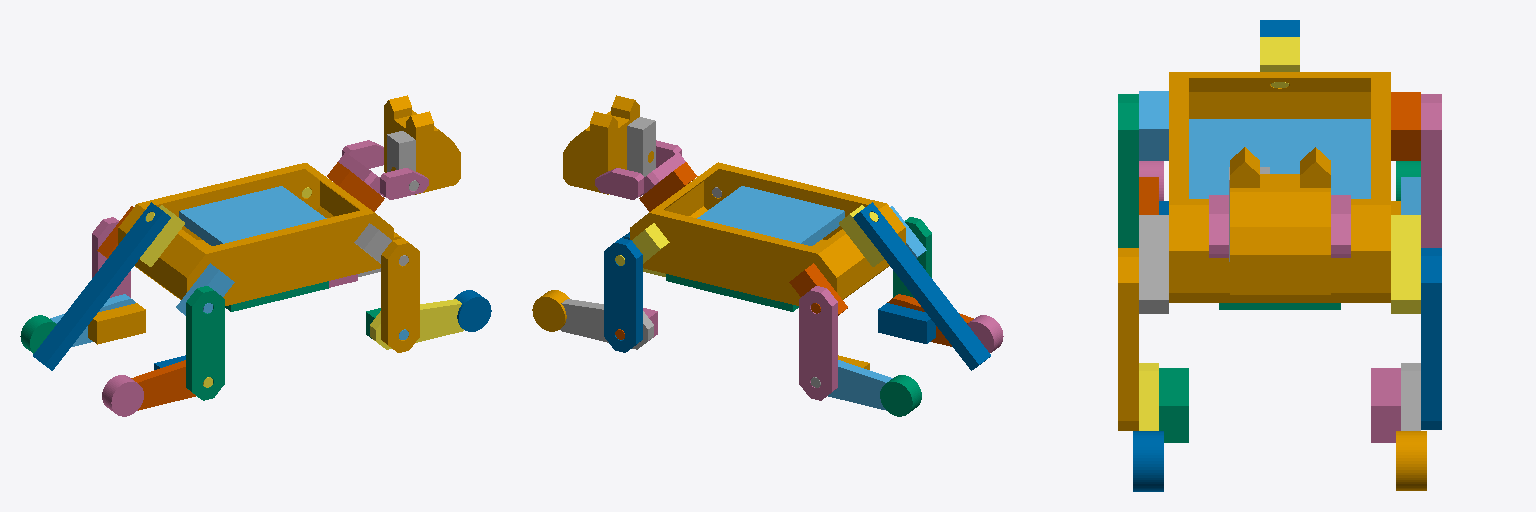
--- Facts derived from the render (not from the file) ---
3 views of the same robot in one strip: view 1: azimuth 30°, elevation 25°; view 2: azimuth 150°, elevation 25°; view 3: azimuth 270°, elevation 25° (orthographic).
Robot: CatModel — 33 links, 32 joints (11 continuous, 21 fixed); root link base_link; default pose: all joints at 0.
Links seen in each view (by area): view 1: base_link, Electronics1, Tail1, Upper_Right_Rear_Leg1, Upper_Right_Front_Leg1, Head1, Neck1, Lower_Right_Rear_Leg1, Lower_Right_Front_Leg1, Lower_Left_Rear_Servo1, Right_Rear_Paw1, Right_Front_Paw1 (+9 smaller); view 2: base_link, Electronics1, Tail1, Head1, Upper_Left_Front_Leg1, Upper_Left_Rear_Leg1, Neck1, Lower_Left_Rear_Leg1, Lower_Left_Front_Leg1, Lower_Right_Rear_Servo1, Head_Servo1, Left_Rear_Paw1 (+9 smaller); view 3: base_link, Head1, Electronics1, Upper_Right_Front_Leg1, Upper_Left_Front_Leg1, Upper_Right_Rear_Leg1, Upper_Left_Rear_Leg1, Upper_Right_Front_Servo1, Upper_Left_Front_Servo1, Neck1, Lower_Right_Front_Servo1, Lower_Left_Front_Servo1 (+11 smaller).
Boxes of the visible links, x1,y1,x2,y2 form: base_link: (118,163,393,305); Electronics1: (179,186,326,245); Tail1: (33,202,170,370); Upper_Right_Rear_Leg1: (186,286,224,400); Upper_Right_Front_Leg1: (381,238,419,352); Head1: (384,95,460,194); Neck1: (338,140,428,199); Lower_Right_Rear_Leg1: (131,360,195,410); Lower_Right_Front_Leg1: (370,299,463,349); Lower_Left_Rear_Servo1: (88,303,145,344); Right_Rear_Paw1: (102,375,143,416); Right_Front_Paw1: (454,290,491,331); base_link: (630,162,905,305); Electronics1: (697,186,844,245); Tail1: (853,202,990,370); Head1: (563,95,653,194); Upper_Left_Front_Leg1: (604,238,642,352); Upper_Left_Rear_Leg1: (799,286,837,400); Neck1: (595,140,685,199); Lower_Left_Rear_Leg1: (828,360,892,410); Lower_Left_Front_Leg1: (560,299,653,349); Lower_Right_Rear_Servo1: (878,303,935,343); Head_Servo1: (627,117,655,176); Left_Rear_Paw1: (880,375,921,416); base_link: (1169,72,1390,302); Head1: (1230,147,1330,299); Electronics1: (1189,119,1370,198); Upper_Right_Front_Leg1: (1118,248,1138,430); Upper_Left_Front_Leg1: (1421,248,1441,429); Upper_Right_Rear_Leg1: (1118,94,1138,247); Upper_Left_Rear_Leg1: (1421,94,1441,247); Upper_Right_Front_Servo1: (1139,215,1168,313); Upper_Left_Front_Servo1: (1391,215,1420,313); Neck1: (1209,195,1350,257); Lower_Right_Front_Servo1: (1159,368,1188,442); Lower_Left_Front_Servo1: (1371,368,1400,442).
Size in the robot's own frame: 0.3751 by 0.16 by 0.1739 metres.
33 mesh visuals loaded from 33 distinct referenced files (33 binary STL).

The robot description file, URDF, robot "CatModel":
<?xml version="1.0" ?>
<robot name="CatModel">

<material name="white">
  <color rgba="0.900 0.900 0.900 1.000"/>
</material>
<material name="ginger">
  <color rgba="0.750 0.500 0.250 1.000"/>
</material>
<material name="green">
  <color rgba="0.1 0.4 0.15 1.000"/>
</material>
<material name="black">
  <color rgba="0.3 0.3 0.3 1.000"/>
</material>
<material name="wood">
  <color rgba="0.6921 0.4431 0.2471 1.000"/>
</material>


<link name="base_link">
  <inertial>
    <origin rpy="0 0 0" xyz="4.828448836566253e-06 -4.612760516553384e-05 0.08481287235367217"/>
    <mass value="0.23060219033668225"/>
    <inertia ixx="0.00039234043563495403" ixy="3.512742743516971e-10" ixz="6.388681870906491e-08" iyy="0.0008625315560529527" iyz="1.8805183007303448e-07" izz="0.0011563335808692746"/>
  </inertial>
  <visual>
    <origin rpy="0 0 0" xyz="0 0 0"/>
    <geometry>
      <mesh filename="meshes/base_link.stl" scale="0.001 0.001 0.001"/>
    </geometry>
    <material name="wood"/>
    <material/>
  </visual>
  <collision>
    <origin rpy="0 0 0" xyz="0 0 0"/>
    <geometry>
      <mesh filename="meshes/base_link.stl" scale="0.001 0.001 0.001"/>
    </geometry>
  </collision>
</link>

<link name="Upper_Right_Rear_Servo1">
  <inertial>
    <origin rpy="0 0 0" xyz="-0.008705058252338416 -0.012500000000000011 -0.0085208055109922"/>
    <mass value="0.08892951704871728"/>
    <inertia ixx="1.135906857503764e-05" ixy="-7.563772916319416e-07" ixz="-5.877350762054003e-06" iyy="1.7308522848490148e-05" iyz="-5.648893697169136e-07" izz="1.1518336968654986e-05"/>
  </inertial>
  <visual>
    <origin rpy="0 0 0" xyz="0.074132 0.05 -0.094571"/>
    <geometry>
      <mesh filename="meshes/Upper_Right_Rear_Servo1.stl" scale="0.001 0.001 0.001"/>
    </geometry>
    <material name="black"/>
    <material/>
  </visual>
  <collision>
    <origin rpy="0 0 0" xyz="0.074132 0.05 -0.094571"/>
    <geometry>
      <mesh filename="meshes/Upper_Right_Rear_Servo1.stl" scale="0.001 0.001 0.001"/>
    </geometry>
  </collision>
</link>

<link name="Upper_Right_Rear_Leg1">
  <inertial>
    <origin rpy="0 0 0" xyz="-1.2657987762065837e-05 0.0 -0.032742712255466"/>
    <mass value="0.014216059949049762"/>
    <inertia ixx="9.14897082191506e-06" ixy="1.3552527156068805e-20" ixz="4.363359273776377e-11" iyy="1.0082257104575791e-05" iyz="-6.776263578034403e-21" izz="1.1702206151449038e-06"/>
  </inertial>
  <visual>
    <origin rpy="0 0 0" xyz="0.089932 0.075 -0.082771"/>
    <geometry>
      <mesh filename="meshes/Upper_Right_Rear_Leg1.stl" scale="0.001 0.001 0.001"/>
    </geometry>
    <material name="wood"/>
    <material/>
  </visual>
  <collision>
    <origin rpy="0 0 0" xyz="0.089932 0.075 -0.082771"/>
    <geometry>
      <mesh filename="meshes/Upper_Right_Rear_Leg1.stl" scale="0.001 0.001 0.001"/>
    </geometry>
  </collision>
</link>

<link name="Right_Rear_Joint1">
  <inertial>
    <origin rpy="0 0 0" xyz="1.0268760365639285e-07 -5.551115123125783e-17 -2.534658303382509e-07"/>
    <mass value="0.0049939542219628675"/>
    <inertia ixx="6.689817351290575e-08" ixy="6.776263578034403e-21" ixz="-6.776263578034403e-21" iyy="5.0563783211123395e-08" iyz="-4.235164736271502e-21" izz="6.689818006422787e-08"/>
  </inertial>
  <visual>
    <origin rpy="0 0 0" xyz="0.089935 0.075 -0.017438"/>
    <geometry>
      <mesh filename="meshes/Right_Rear_Joint1.stl" scale="0.001 0.001 0.001"/>
    </geometry>
    <material name="black"/>
    <material/>
  </visual>
  <collision>
    <origin rpy="0 0 0" xyz="0.089935 0.075 -0.017438"/>
    <geometry>
      <mesh filename="meshes/Right_Rear_Joint1.stl" scale="0.001 0.001 0.001"/>
    </geometry>
  </collision>
</link>

<link name="Lower_Right_Rear_Servo1">
  <inertial>
    <origin rpy="0 0 0" xyz="-0.007162372290249686 0.016937460430151777 -2.5371486519001896e-07"/>
    <mass value="0.08509975852435848"/>
    <inertia ixx="4.855585193670763e-06" ixy="3.4288186995658047e-07" ixz="-7.153050938027428e-15" iyy="1.6667817887716478e-05" iyz="1.1921792220960514e-14" izz="1.606662677382394e-05"/>
  </inertial>
  <visual>
    <origin rpy="0 0 0" xyz="0.089935 0.07 -0.017438"/>
    <geometry>
      <mesh filename="meshes/Lower_Right_Rear_Servo1.stl" scale="0.001 0.001 0.001"/>
    </geometry>
    <material name="black"/>
    <material/>
  </visual>
  <collision>
    <origin rpy="0 0 0" xyz="0.089935 0.07 -0.017438"/>
    <geometry>
      <mesh filename="meshes/Lower_Right_Rear_Servo1.stl" scale="0.001 0.001 0.001"/>
    </geometry>
  </collision>
</link>

<link name="Lower_Right_Rear_Leg1">
  <inertial>
    <origin rpy="0 0 0" xyz="-0.023689841493032673 1.3877787807814457e-17 -0.0010777696278954432"/>
    <mass value="0.012527915218877675"/>
    <inertia ixx="8.92584988676055e-07" ixy="-4.0657581468206416e-20" ixz="-2.885026995442547e-07" iyy="7.94106993199357e-06" iyz="-1.6940658945086007e-21" izz="7.257283530298864e-06"/>
  </inertial>
  <visual>
    <origin rpy="0 0 0" xyz="0.089935 0.065 -0.017438"/>
    <geometry>
      <mesh filename="meshes/Lower_Right_Rear_Leg1.stl" scale="0.001 0.001 0.001"/>
    </geometry>
    <material name="wood"/>
    <material/>
  </visual>
  <collision>
    <origin rpy="0 0 0" xyz="0.089935 0.065 -0.017438"/>
    <geometry>
      <mesh filename="meshes/Lower_Right_Rear_Leg1.stl" scale="0.001 0.001 0.001"/>
    </geometry>
  </collision>
</link>

<link name="Right_Rear_Paw1">
  <inertial>
    <origin rpy="0 0 0" xyz="7.511135047266748e-09 0.0 4.805733764823295e-07"/>
    <mass value="0.009860673647584237"/>
    <inertia ixx="7.395505070385559e-07" ixy="2.710505431213761e-20" ixz="3.3881317890172014e-21" iyy="1.1093257522928218e-06" iyz="-1.6940658945086007e-21" izz="7.39550507038644e-07"/>
  </inertial>
  <visual>
    <origin rpy="0 0 0" xyz="0.159944 0.065 -0.01611"/>
    <geometry>
      <mesh filename="meshes/Right_Rear_Paw1.stl" scale="0.001 0.001 0.001"/>
    </geometry>
    <material name="white"/>
    <material/>
  </visual>
  <collision>
    <origin rpy="0 0 0" xyz="0.159944 0.065 -0.01611"/>
    <geometry>
      <mesh filename="meshes/Right_Rear_Paw1.stl" scale="0.001 0.001 0.001"/>
    </geometry>
  </collision>
</link>

<link name="Upper_Right_Front_Servo1">
  <inertial>
    <origin rpy="0 0 0" xyz="0.008764782542449959 -0.012499999999999997 -0.00865448803477041"/>
    <mass value="0.08892951704871722"/>
    <inertia ixx="1.1398601763720805e-05" ixy="8.194267562608025e-07" ixz="5.933694709349792e-06" iyy="1.7425996599347918e-05" iyz="-6.241495982671095e-07" izz="1.1596277530830025e-05"/>
  </inertial>
  <visual>
    <origin rpy="0 0 0" xyz="-0.072881 0.05 -0.095719"/>
    <geometry>
      <mesh filename="meshes/Upper_Right_Front_Servo1.stl" scale="0.001 0.001 0.001"/>
    </geometry>
    <material name="black"/>
    <material/>
  </visual>
  <collision>
    <origin rpy="0 0 0" xyz="-0.072881 0.05 -0.095719"/>
    <geometry>
      <mesh filename="meshes/Upper_Right_Front_Servo1.stl" scale="0.001 0.001 0.001"/>
    </geometry>
  </collision>
</link>

<link name="Upper_Right_Front_Leg1">
  <inertial>
    <origin rpy="0 0 0" xyz="-8.530472696814673e-05 0.0 -0.03273740647087604"/>
    <mass value="0.014216059949049762"/>
    <inertia ixx="9.14492261793487e-06" ixy="1.3552527156068805e-20" ixz="8.963002220437446e-10" iyy="1.0078205657321909e-05" iyz="6.776263578034403e-21" izz="1.1702173718711986e-06"/>
  </inertial>
  <visual>
    <origin rpy="0 0 0" xyz="-0.089998 0.075 -0.082681"/>
    <geometry>
      <mesh filename="meshes/Upper_Right_Front_Leg1.stl" scale="0.001 0.001 0.001"/>
    </geometry>
    <material name="wood"/>
    <material/>
  </visual>
  <collision>
    <origin rpy="0 0 0" xyz="-0.089998 0.075 -0.082681"/>
    <geometry>
      <mesh filename="meshes/Upper_Right_Front_Leg1.stl" scale="0.001 0.001 0.001"/>
    </geometry>
  </collision>
</link>

<link name="Right_Front_Joint1">
  <inertial>
    <origin rpy="0 0 0" xyz="-2.402333844908622e-07 -5.551115123125783e-17 -4.584168129713462e-07"/>
    <mass value="0.0049939542219628675"/>
    <inertia ixx="6.689817351291253e-08" ixy="-2.0328790734103208e-20" ixz="3.3881317890172014e-21" iyy="5.0563783211123395e-08" iyz="-4.235164736271502e-21" izz="6.689818006421432e-08"/>
  </inertial>
  <visual>
    <origin rpy="0 0 0" xyz="-0.089937 0.075 -0.01721"/>
    <geometry>
      <mesh filename="meshes/Right_Front_Joint1.stl" scale="0.001 0.001 0.001"/>
    </geometry>
    <material name="black"/>
    <material/>
  </visual>
  <collision>
    <origin rpy="0 0 0" xyz="-0.089937 0.075 -0.01721"/>
    <geometry>
      <mesh filename="meshes/Right_Front_Joint1.stl" scale="0.001 0.001 0.001"/>
    </geometry>
  </collision>
</link>

<link name="Lower_Right_Front_Servo1">
  <inertial>
    <origin rpy="0 0 0" xyz="0.007162237945319436 0.01693746043015179 9.504163804588059e-05"/>
    <mass value="0.0850997585243585"/>
    <inertia ixx="4.855621768028076e-06" ixy="-3.4288202332266983e-07" ixz="-2.7430668549045713e-09" iyy="1.6667854646112935e-05" iyz="-4.571776864647028e-09" izz="1.6066626957863574e-05"/>
  </inertial>
  <visual>
    <origin rpy="0 0 0" xyz="-0.089937 0.07 -0.01721"/>
    <geometry>
      <mesh filename="meshes/Lower_Right_Front_Servo1.stl" scale="0.001 0.001 0.001"/>
    </geometry>
    <material name="black"/>
    <material/>
  </visual>
  <collision>
    <origin rpy="0 0 0" xyz="-0.089937 0.07 -0.01721"/>
    <geometry>
      <mesh filename="meshes/Lower_Right_Front_Servo1.stl" scale="0.001 0.001 0.001"/>
    </geometry>
  </collision>
</link>

<link name="Lower_Right_Front_Leg1">
  <inertial>
    <origin rpy="0 0 0" xyz="0.02365871265081529 0.0 -0.0009338965652742164"/>
    <mass value="0.012527915218877713"/>
    <inertia ixx="8.927102762511694e-07" ixy="1.3552527156068805e-20" ixz="2.8999114412186076e-07" iyy="7.941829753251186e-06" iyz="0.0" izz="7.257918063981379e-06"/>
  </inertial>
  <visual>
    <origin rpy="0 0 0" xyz="-0.089937 0.065 -0.01721"/>
    <geometry>
      <mesh filename="meshes/Lower_Right_Front_Leg1.stl" scale="0.001 0.001 0.001"/>
    </geometry>
    <material name="wood"/>
    <material/>
  </visual>
  <collision>
    <origin rpy="0 0 0" xyz="-0.089937 0.065 -0.01721"/>
    <geometry>
      <mesh filename="meshes/Lower_Right_Front_Leg1.stl" scale="0.001 0.001 0.001"/>
    </geometry>
  </collision>
</link>

<link name="Right_Front_Paw1">
  <inertial>
    <origin rpy="0 0 0" xyz="-6.66422521056198e-08 0.0 3.8056695783258987e-07"/>
    <mass value="0.009860673647584237"/>
    <inertia ixx="7.39550507038583e-07" ixy="5.421010862427522e-20" ixz="-1.0164395367051604e-20" iyy="1.1093257522928218e-06" iyz="3.3881317890172014e-21" izz="7.39550507038644e-07"/>
  </inertial>
  <visual>
    <origin rpy="0 0 0" xyz="-0.159916 0.065 -0.016021"/>
    <geometry>
      <mesh filename="meshes/Right_Front_Paw1.stl" scale="0.001 0.001 0.001"/>
    </geometry>
    <material name="white"/>
    <material/>
  </visual>
  <collision>
    <origin rpy="0 0 0" xyz="-0.159916 0.065 -0.016021"/>
    <geometry>
      <mesh filename="meshes/Right_Front_Paw1.stl" scale="0.001 0.001 0.001"/>
    </geometry>
  </collision>
</link>

<link name="Neck_Servo1">
  <inertial>
    <origin rpy="0 0 0" xyz="0.012088780175495181 1.9515253796303132e-07 0.0025195800527267748"/>
    <mass value="0.08701463778653835"/>
    <inertia ixx="1.0888447279340432e-05" ixy="-1.0428525193303775e-10" ixz="5.772983643664484e-06" iyy="1.6226212828070966e-05" iyz="-1.8797429805778473e-10" izz="1.0813930154036293e-05"/>
  </inertial>
  <visual>
    <origin rpy="0 0 0" xyz="-0.079697 -0.0 -0.112197"/>
    <geometry>
      <mesh filename="meshes/Neck_Servo1.stl" scale="0.001 0.001 0.001"/>
    </geometry>
    <material name="black"/>
    <material/>
  </visual>
  <collision>
    <origin rpy="0 0 0" xyz="-0.079697 -0.0 -0.112197"/>
    <geometry>
      <mesh filename="meshes/Neck_Servo1.stl" scale="0.001 0.001 0.001"/>
    </geometry>
  </collision>
</link>

<link name="Neck1">
  <inertial>
    <origin rpy="0 0 0" xyz="0.01123427725955535 0.0009221597976449781 -0.0020048734460798023"/>
    <mass value="0.19671474883465964"/>
    <inertia ixx="0.00011974818810461373" ixy="-2.9831136313045425e-06" ixz="2.761469197435241e-06" iyy="3.5474452138836536e-05" iyz="3.4391210002771794e-07" izz="0.00014274235119378842"/>
  </inertial>
  <visual>
    <origin rpy="0 0 0" xyz="-0.097927 -4e-06 -0.125786"/>
    <geometry>
      <mesh filename="meshes/Neck1.stl" scale="0.001 0.001 0.001"/>
    </geometry>
    <material name="wood"/>
    <material/>
  </visual>
  <collision>
    <origin rpy="0 0 0" xyz="-0.097927 -4e-06 -0.125786"/>
    <geometry>
      <mesh filename="meshes/Neck1.stl" scale="0.001 0.001 0.001"/>
    </geometry>
  </collision>
</link>

<link name="Head_Servo1">
  <inertial>
    <origin rpy="0 0 0" xyz="-0.00020573526206899007 0.0144488827820353 0.012506366679220726"/>
    <mass value="0.07800761310887962"/>
    <inertia ixx="1.7514893352275126e-05" ixy="1.1964101534863358e-08" ixz="1.0356017418828092e-08" iyy="1.5420048085610077e-05" iyz="-6.28035148224007e-07" izz="4.915631620179637e-06"/>
  </inertial>
  <visual>
    <origin rpy="0 0 0" xyz="-0.125283 0.030014 -0.121923"/>
    <geometry>
      <mesh filename="meshes/Head_Servo1.stl" scale="0.001 0.001 0.001"/>
    </geometry>
    <material name="black"/>
    <material/>
  </visual>
  <collision>
    <origin rpy="0 0 0" xyz="-0.125283 0.030014 -0.121923"/>
    <geometry>
      <mesh filename="meshes/Head_Servo1.stl" scale="0.001 0.001 0.001"/>
    </geometry>
  </collision>
</link>

<link name="Head1">
  <inertial>
    <origin rpy="0 0 0" xyz="0.025829653601937175 0.016968693548665863 0.006114881070728717"/>
    <mass value="0.8146696853490065"/>
    <inertia ixx="0.00037625933598252857" ixy="-4.1032021073195805e-06" ixz="3.5163968085536595e-05" iyy="0.0003134078855276251" iyz="-9.583909859524562e-07" izz="0.00028820425441944755"/>
  </inertial>
  <visual>
    <origin rpy="0 0 0" xyz="-0.125067 0.017047 -0.128159"/>
    <geometry>
      <mesh filename="meshes/Head1.stl" scale="0.001 0.001 0.001"/>
    </geometry>
    <material name="wood"/>
    <material/>
  </visual>
  <collision>
    <origin rpy="0 0 0" xyz="-0.125067 0.017047 -0.128159"/>
    <geometry>
      <mesh filename="meshes/Head1.stl" scale="0.001 0.001 0.001"/>
    </geometry>
  </collision>
</link>

<link name="Electronics1">
  <inertial>
    <origin rpy="0 0 0" xyz="0.002491103479004657 -0.047323940408980275 -9.006928508581424e-08"/>
    <mass value="0.1587634595739255"/>
    <inertia ixx="0.00010941324576018395" ixy="6.962056449767063e-08" ixz="2.238714855856694e-15" iyy="0.00012028852864303611" iyz="-4.253452897580727e-14" izz="0.0002270595662496503"/>
  </inertial>
  <visual>
    <origin rpy="0 0 0" xyz="7.2e-05 -0.0475 -0.102498"/>
    <geometry>
      <mesh filename="meshes/Electronics1.stl" scale="0.001 0.001 0.001"/>
    </geometry>
    <material name="green"/>
    <material/>
  </visual>
  <collision>
    <origin rpy="0 0 0" xyz="7.2e-05 -0.0475 -0.102498"/>
    <geometry>
      <mesh filename="meshes/Electronics1.stl" scale="0.001 0.001 0.001"/>
    </geometry>
  </collision>
</link>

<link name="Battery1">
  <inertial>
    <origin rpy="0 0 0" xyz="0.004970720042067048 0.0 -0.014912160126184536"/>
    <mass value="0.6539897585243583"/>
    <inertia ixx="0.00021762795239984407" ixy="-1.3687895261682568e-19" ixz="2.855498617997977e-07" iyy="0.00046153313567702265" iyz="3.421973815420642e-20" izz="0.0006340399595973334"/>
  </inertial>
  <visual>
    <origin rpy="0 0 0" xyz="-0.0 -0.0 -0.0725"/>
    <geometry>
      <mesh filename="meshes/Battery1.stl" scale="0.001 0.001 0.001"/>
    </geometry>
    <material name="ginger"/>
    <material/>
  </visual>
  <collision>
    <origin rpy="0 0 0" xyz="-0.0 -0.0 -0.0725"/>
    <geometry>
      <mesh filename="meshes/Battery1.stl" scale="0.001 0.001 0.001"/>
    </geometry>
  </collision>
</link>

<link name="Tail_Servo1">
  <inertial>
    <origin rpy="0 0 0" xyz="-0.011922412265587129 -4.994581944007777e-07 0.0026566674441921845"/>
    <mass value="0.08689583836578228"/>
    <inertia ixx="1.120967849619443e-05" ixy="-1.1321282747178476e-10" ixz="-5.899813467811739e-06" iyy="1.6421647025098834e-05" iyz="6.291786786704317e-10" izz="1.0686648969213531e-05"/>
  </inertial>
  <visual>
    <origin rpy="0 0 0" xyz="0.079697 -0.0 -0.112197"/>
    <geometry>
      <mesh filename="meshes/Tail_Servo1.stl" scale="0.001 0.001 0.001"/>
    </geometry>
    <material name="black"/>
    <material/>
  </visual>
  <collision>
    <origin rpy="0 0 0" xyz="0.079697 -0.0 -0.112197"/>
    <geometry>
      <mesh filename="meshes/Tail_Servo1.stl" scale="0.001 0.001 0.001"/>
    </geometry>
  </collision>
</link>

<link name="Tail1">
  <inertial>
    <origin rpy="0 0 0" xyz="-0.04895558163064957 1.2304007942038428e-05 -0.0489557172543776"/>
    <mass value="0.01723009674422482"/>
    <inertia ixx="1.7307019228040223e-05" ixy="-2.564355892630473e-10" ixz="-1.6576968536536994e-05" iyy="3.344110535214416e-05" iyz="-2.564355892619882e-10" izz="1.730701922804021e-05"/>
  </inertial>
  <visual>
    <origin rpy="0 0 0" xyz="0.094118 1.2e-05 -0.12924"/>
    <geometry>
      <mesh filename="meshes/Tail1.stl" scale="0.001 0.001 0.001"/>
    </geometry>
    <material name="wood"/>
    <material/>
  </visual>
  <collision>
    <origin rpy="0 0 0" xyz="0.094118 1.2e-05 -0.12924"/>
    <geometry>
      <mesh filename="meshes/Tail1.stl" scale="0.001 0.001 0.001"/>
    </geometry>
  </collision>
</link>

<link name="Upper_Left_Rear_Servo1">
  <inertial>
    <origin rpy="0 0 0" xyz="-0.008709364762219271 0.012499999999999997 -0.008616498998876135"/>
    <mass value="0.08892951704871722"/>
    <inertia ixx="1.1365631716438868e-05" ixy="7.611644897254988e-07" ixz="-5.8819421199607196e-06" iyy="1.7320556993317493e-05" iyz="5.696765677650427e-07" izz="1.1523807972080888e-05"/>
  </inertial>
  <visual>
    <origin rpy="0 0 0" xyz="0.074132 -0.05 -0.094571"/>
    <geometry>
      <mesh filename="meshes/Upper_Left_Rear_Servo1.stl" scale="0.001 0.001 0.001"/>
    </geometry>
    <material name="black"/>
    <material/>
  </visual>
  <collision>
    <origin rpy="0 0 0" xyz="0.074132 -0.05 -0.094571"/>
    <geometry>
      <mesh filename="meshes/Upper_Left_Rear_Servo1.stl" scale="0.001 0.001 0.001"/>
    </geometry>
  </collision>
</link>

<link name="Upper_Left_Rear_Leg1">
  <inertial>
    <origin rpy="0 0 0" xyz="6.0257715295247705e-05 0.0 -0.03272038914643548"/>
    <mass value="0.014216059949049762"/>
    <inertia ixx="9.147187959461728e-06" ixy="0.0" ixz="-8.420847599950598e-10" iyy="1.0080472775197583e-05" iyz="2.0328790734103208e-20" izz="1.1702191482200692e-06"/>
  </inertial>
  <visual>
    <origin rpy="0 0 0" xyz="0.090032 -0.075 -0.082671"/>
    <geometry>
      <mesh filename="meshes/Upper_Left_Rear_Leg1.stl" scale="0.001 0.001 0.001"/>
    </geometry>
    <material name="wood"/>
    <material/>
  </visual>
  <collision>
    <origin rpy="0 0 0" xyz="0.090032 -0.075 -0.082671"/>
    <geometry>
      <mesh filename="meshes/Upper_Left_Rear_Leg1.stl" scale="0.001 0.001 0.001"/>
    </geometry>
  </collision>
</link>

<link name="Left_Rear_Joint1">
  <inertial>
    <origin rpy="0 0 0" xyz="4.96095167820676e-07 1.3877787807814457e-17 -3.0490204138561294e-07"/>
    <mass value="0.0049939542219629126"/>
    <inertia ixx="6.689817355522013e-08" ixy="0.0" ixz="-5.082197683525802e-21" iyy="5.0563783253414056e-08" iyz="3.3881317890172014e-21" izz="6.689818006425498e-08"/>
  </inertial>
  <visual>
    <origin rpy="0 0 0" xyz="0.089975 -0.075 -0.017277"/>
    <geometry>
      <mesh filename="meshes/Left_Rear_Joint1.stl" scale="0.001 0.001 0.001"/>
    </geometry>
    <material name="black"/>
    <material/>
  </visual>
  <collision>
    <origin rpy="0 0 0" xyz="0.089975 -0.075 -0.017277"/>
    <geometry>
      <mesh filename="meshes/Left_Rear_Joint1.stl" scale="0.001 0.001 0.001"/>
    </geometry>
  </collision>
</link>

<link name="Lower_Left_Rear_Servo1">
  <inertial>
    <origin rpy="0 0 0" xyz="-0.0071619820835361475 -0.01693746043015177 9.519515281747326e-05"/>
    <mass value="0.0850997585243585"/>
    <inertia ixx="4.855621768027859e-06" ixy="-3.4288202332283246e-07" ixz="2.7430668548774663e-09" iyy="1.666785464611261e-05" iyz="4.571776864647028e-09" izz="1.6066626957863357e-05"/>
  </inertial>
  <visual>
    <origin rpy="0 0 0" xyz="0.089975 -0.07 -0.017277"/>
    <geometry>
      <mesh filename="meshes/Lower_Left_Rear_Servo1.stl" scale="0.001 0.001 0.001"/>
    </geometry>
    <material name="black"/>
    <material/>
  </visual>
  <collision>
    <origin rpy="0 0 0" xyz="0.089975 -0.07 -0.017277"/>
    <geometry>
      <mesh filename="meshes/Lower_Left_Rear_Servo1.stl" scale="0.001 0.001 0.001"/>
    </geometry>
  </collision>
</link>

<link name="Lower_Left_Rear_Leg1">
  <inertial>
    <origin rpy="0 0 0" xyz="-0.023679100821470664 -1.3877787807814457e-17 -0.0009947104633864674"/>
    <mass value="0.012527915218877675"/>
    <inertia ixx="8.926594507867674e-07" ixy="1.3552527156068805e-20" ixz="-2.8935853395577966e-07" iyy="7.941356342554203e-06" iyz="-3.3881317890172014e-21" izz="7.257495478748784e-06"/>
  </inertial>
  <visual>
    <origin rpy="0 0 0" xyz="0.089975 -0.065 -0.017277"/>
    <geometry>
      <mesh filename="meshes/Lower_Left_Rear_Leg1.stl" scale="0.001 0.001 0.001"/>
    </geometry>
    <material name="wood"/>
    <material/>
  </visual>
  <collision>
    <origin rpy="0 0 0" xyz="0.089975 -0.065 -0.017277"/>
    <geometry>
      <mesh filename="meshes/Lower_Left_Rear_Leg1.stl" scale="0.001 0.001 0.001"/>
    </geometry>
  </collision>
</link>

<link name="Left_Rear_Paw1">
  <inertial>
    <origin rpy="0 0 0" xyz="3.9103137530749343e-07 0.0 -3.2894929649293636e-07"/>
    <mass value="0.009860673647584237"/>
    <inertia ixx="7.395505070385627e-07" ixy="-1.3552527156068805e-20" ixz="6.776263578034403e-21" iyy="1.1093257522927676e-06" iyz="0.0" izz="7.39550507038644e-07"/>
  </inertial>
  <visual>
    <origin rpy="0 0 0" xyz="0.159974 -0.065 -0.01603"/>
    <geometry>
      <mesh filename="meshes/Left_Rear_Paw1.stl" scale="0.001 0.001 0.001"/>
    </geometry>
    <material name="white"/>
    <material/>
  </visual>
  <collision>
    <origin rpy="0 0 0" xyz="0.159974 -0.065 -0.01603"/>
    <geometry>
      <mesh filename="meshes/Left_Rear_Paw1.stl" scale="0.001 0.001 0.001"/>
    </geometry>
  </collision>
</link>

<link name="Upper_Left_Front_Servo1">
  <inertial>
    <origin rpy="0 0 0" xyz="0.008785081078021909 0.012500000000000011 -0.008557021808984433"/>
    <mass value="0.08892951704871721"/>
    <inertia ixx="1.1393842768754473e-05" ixy="-8.158511247008133e-07" ixz="5.931342781384367e-06" iyy="1.7416579238026383e-05" iyz="6.221706832519646e-07" izz="1.1591619164474606e-05"/>
  </inertial>
  <visual>
    <origin rpy="0 0 0" xyz="-0.072933 -0.05 -0.095716"/>
    <geometry>
      <mesh filename="meshes/Upper_Left_Front_Servo1.stl" scale="0.001 0.001 0.001"/>
    </geometry>
    <material name="black"/>
    <material/>
  </visual>
  <collision>
    <origin rpy="0 0 0" xyz="-0.072933 -0.05 -0.095716"/>
    <geometry>
      <mesh filename="meshes/Upper_Left_Front_Servo1.stl" scale="0.001 0.001 0.001"/>
    </geometry>
  </collision>
</link>

<link name="Upper_Left_Front_Leg1">
  <inertial>
    <origin rpy="0 0 0" xyz="-1.539053799046175e-05 0.0 -0.032681677799056105"/>
    <mass value="0.014216059949049762"/>
    <inertia ixx="9.149053204176704e-06" ixy="-1.3552527156068805e-20" ixz="4.2685382626531793e-10" iyy="1.0082339403517379e-05" iyz="-6.776263578034403e-21" izz="1.1702205318248613e-06"/>
  </inertial>
  <visual>
    <origin rpy="0 0 0" xyz="-0.089975 -0.075 -0.08272"/>
    <geometry>
      <mesh filename="meshes/Upper_Left_Front_Leg1.stl" scale="0.001 0.001 0.001"/>
    </geometry>
    <material name="wood"/>
    <material/>
  </visual>
  <collision>
    <origin rpy="0 0 0" xyz="-0.089975 -0.075 -0.08272"/>
    <geometry>
      <mesh filename="meshes/Upper_Left_Front_Leg1.stl" scale="0.001 0.001 0.001"/>
    </geometry>
  </collision>
</link>

<link name="Left_Front_Joint1">
  <inertial>
    <origin rpy="0 0 0" xyz="2.345907219869492e-08 1.3877787807814457e-17 -5.326294378119045e-08"/>
    <mass value="0.0049939542219629126"/>
    <inertia ixx="6.689817355521674e-08" ixy="0.0" ixz="3.3881317890172014e-21" iyy="5.056378325344116e-08" iyz="8.470329472543003e-22" izz="6.689818006425498e-08"/>
  </inertial>
  <visual>
    <origin rpy="0 0 0" xyz="-0.089946 -0.075 -0.017389"/>
    <geometry>
      <mesh filename="meshes/Left_Front_Joint1.stl" scale="0.001 0.001 0.001"/>
    </geometry>
    <material name="black"/>
    <material/>
  </visual>
  <collision>
    <origin rpy="0 0 0" xyz="-0.089946 -0.075 -0.017389"/>
    <geometry>
      <mesh filename="meshes/Left_Front_Joint1.stl" scale="0.001 0.001 0.001"/>
    </geometry>
  </collision>
</link>

<link name="Lower_Left_Front_Servo1">
  <inertial>
    <origin rpy="0 0 0" xyz="0.007162501638801985 -0.016937460430151777 9.544679191508115e-05"/>
    <mass value="0.08509975852435851"/>
    <inertia ixx="4.855621768027913e-06" ixy="3.42882023236801e-07" ixz="-2.74306685419984e-09" iyy="1.6667854646009502e-05" iyz="4.571776864647028e-09" izz="1.606662695776014e-05"/>
  </inertial>
  <visual>
    <origin rpy="0 0 0" xyz="-0.089946 -0.07 -0.017389"/>
    <geometry>
      <mesh filename="meshes/Lower_Left_Front_Servo1.stl" scale="0.001 0.001 0.001"/>
    </geometry>
    <material name="black"/>
    <material/>
  </visual>
  <collision>
    <origin rpy="0 0 0" xyz="-0.089946 -0.07 -0.017389"/>
    <geometry>
      <mesh filename="meshes/Lower_Left_Front_Servo1.stl" scale="0.001 0.001 0.001"/>
    </geometry>
  </collision>
</link>

<link name="Lower_Left_Front_Leg1">
  <inertial>
    <origin rpy="0 0 0" xyz="0.023694680517413982 0.0 -0.0010203254505736503"/>
    <mass value="0.012527915218877713"/>
    <inertia ixx="8.926369168539721e-07" ixy="1.3552527156068805e-20" ixz="2.8908702763973346e-07" iyy="7.941025292395562e-06" iyz="-3.3881317890172014e-21" izz="7.257186962522926e-06"/>
  </inertial>
  <visual>
    <origin rpy="0 0 0" xyz="-0.089946 -0.065 -0.017389"/>
    <geometry>
      <mesh filename="meshes/Lower_Left_Front_Leg1.stl" scale="0.001 0.001 0.001"/>
    </geometry>
    <material name="wood"/>
    <material/>
  </visual>
  <collision>
    <origin rpy="0 0 0" xyz="-0.089946 -0.065 -0.017389"/>
    <geometry>
      <mesh filename="meshes/Lower_Left_Front_Leg1.stl" scale="0.001 0.001 0.001"/>
    </geometry>
  </collision>
</link>

<link name="Left_Front_Paw1">
  <inertial>
    <origin rpy="0 0 0" xyz="-3.311588045173952e-07 -1.3877787807814457e-17 -5.1111090505762125e-08"/>
    <mass value="0.009860673647584237"/>
    <inertia ixx="7.395505070385627e-07" ixy="0.0" ixz="-3.3881317890172014e-21" iyy="1.1093257522928218e-06" iyz="1.6940658945086007e-21" izz="7.395505070386982e-07"/>
  </inertial>
  <visual>
    <origin rpy="0 0 0" xyz="-0.15996 -0.065 -0.016117"/>
    <geometry>
      <mesh filename="meshes/Left_Front_Paw1.stl" scale="0.001 0.001 0.001"/>
    </geometry>
    <material name="white"/>
    <material/>
  </visual>
  <collision>
    <origin rpy="0 0 0" xyz="-0.15996 -0.065 -0.016117"/>
    <geometry>
      <mesh filename="meshes/Left_Front_Paw1.stl" scale="0.001 0.001 0.001"/>
    </geometry>
  </collision>
</link>

<joint name="R_Rear_Body_Hip_Servo" type="fixed">
  <origin rpy="0 0 0" xyz="-0.074132 -0.05 0.094571"/>
  <parent link="base_link"/>
  <child link="Upper_Right_Rear_Servo1"/>
</joint>

<joint name="R_Rear_Hip_Servo_Thigh" type="continuous">
  <origin rpy="0 0 0" xyz="-0.0158 -0.025 -0.0118"/>
  <parent link="Upper_Right_Rear_Servo1"/>
  <child link="Upper_Right_Rear_Leg1"/>
  <axis xyz="0.0 -1.0 0.0"/>
</joint>
<transmission name="R_Rear_Hip_Servo_Thigh_tran">
  <type>transmission_interface/SimpleTransmission</type>
  <joint name="R_Rear_Hip_Servo_Thigh">
    <hardwareInterface>PositionJointInterface</hardwareInterface>
  </joint>
  <actuator name="R_Rear_Hip_Servo_Thigh_actr">
    <hardwareInterface>PositionJointInterface</hardwareInterface>
    <mechanicalReduction>1</mechanicalReduction>
  </actuator>
</transmission>

<joint name="R_Rear_Thigh_Knee" type="fixed">
  <origin rpy="0 0 0" xyz="-3e-06 0.0 -0.065333"/>
  <parent link="Upper_Right_Rear_Leg1"/>
  <child link="Right_Rear_Joint1"/>
</joint>

<joint name="R_Rear_Knee_Servo" type="continuous">
  <origin rpy="0 0 0" xyz="0.0 0.005 0.0"/>
  <parent link="Right_Rear_Joint1"/>
  <child link="Lower_Right_Rear_Servo1"/>
  <axis xyz="0.0 -1.0 0.0"/>
</joint>
<transmission name="R_Rear_Knee_Servo_tran">
  <type>transmission_interface/SimpleTransmission</type>
  <joint name="R_Rear_Knee_Servo">
    <hardwareInterface>PositionJointInterface</hardwareInterface>
  </joint>
  <actuator name="R_Rear_Knee_Servo_actr">
    <hardwareInterface>PositionJointInterface</hardwareInterface>
    <mechanicalReduction>1</mechanicalReduction>
  </actuator>
</transmission>

<joint name="R_Rear_Knee_Calf" type="fixed">
  <origin rpy="0 0 0" xyz="0.0 0.005 0.0"/>
  <parent link="Lower_Right_Rear_Servo1"/>
  <child link="Lower_Right_Rear_Leg1"/>
</joint>

<joint name="R_Rear_Calf_Paw" type="fixed">
  <origin rpy="0 0 0" xyz="-0.070009 0.0 -0.001328"/>
  <parent link="Lower_Right_Rear_Leg1"/>
  <child link="Right_Rear_Paw1"/>
</joint>

<joint name="R_Front_Body_Hip_Servo" type="fixed">
  <origin rpy="0 0 0" xyz="0.072881 -0.05 0.095719"/>
  <parent link="base_link"/>
  <child link="Upper_Right_Front_Servo1"/>
</joint>

<joint name="R_Front_Hip_Servo_Thigh" type="continuous">
  <origin rpy="0 0 0" xyz="0.017117 -0.025 -0.013038"/>
  <parent link="Upper_Right_Front_Servo1"/>
  <child link="Upper_Right_Front_Leg1"/>
  <axis xyz="0.0 -1.0 0.0"/>
</joint>
<transmission name="R_Front_Hip_Servo_Thigh_tran">
  <type>transmission_interface/SimpleTransmission</type>
  <joint name="R_Front_Hip_Servo_Thigh">
    <hardwareInterface>PositionJointInterface</hardwareInterface>
  </joint>
  <actuator name="R_Front_Hip_Servo_Thigh_actr">
    <hardwareInterface>PositionJointInterface</hardwareInterface>
    <mechanicalReduction>1</mechanicalReduction>
  </actuator>
</transmission>

<joint name="R_Front_Thigh_Knee" type="fixed">
  <origin rpy="0 0 0" xyz="-6.1e-05 0.0 -0.065471"/>
  <parent link="Upper_Right_Front_Leg1"/>
  <child link="Right_Front_Joint1"/>
</joint>

<joint name="R_Front_Knee_Servo" type="continuous">
  <origin rpy="0 0 0" xyz="0.0 0.005 0.0"/>
  <parent link="Right_Front_Joint1"/>
  <child link="Lower_Right_Front_Servo1"/>
  <axis xyz="0.0 1.0 0.0"/>
</joint>
<transmission name="R_Front_Knee_Servo_tran">
  <type>transmission_interface/SimpleTransmission</type>
  <joint name="R_Front_Knee_Servo">
    <hardwareInterface>PositionJointInterface</hardwareInterface>
  </joint>
  <actuator name="R_Front_Knee_Servo_actr">
    <hardwareInterface>PositionJointInterface</hardwareInterface>
    <mechanicalReduction>1</mechanicalReduction>
  </actuator>
</transmission>

<joint name="R_Front_Knee_Calf" type="fixed">
  <origin rpy="0 0 0" xyz="0.0 0.005 0.0"/>
  <parent link="Lower_Right_Front_Servo1"/>
  <child link="Lower_Right_Front_Leg1"/>
</joint>

<joint name="R_Front_Calf_Paw" type="fixed">
  <origin rpy="0 0 0" xyz="0.069979 0.0 -0.001189"/>
  <parent link="Lower_Right_Front_Leg1"/>
  <child link="Right_Front_Paw1"/>
</joint>

<joint name="Body_Neck" type="fixed">
  <origin rpy="0 0 0" xyz="0.079697 0.0 0.112197"/>
  <parent link="base_link"/>
  <child link="Neck_Servo1"/>
</joint>

<joint name="Body_Neck_Servo" type="continuous">
  <origin rpy="0 0 0" xyz="0.01823 4e-06 0.013589"/>
  <parent link="Neck_Servo1"/>
  <child link="Neck1"/>
  <axis xyz="0.707107 0.0 0.707107"/>
</joint>
<transmission name="Body_Neck_Servo_tran">
  <type>transmission_interface/SimpleTransmission</type>
  <joint name="Body_Neck_Servo">
    <hardwareInterface>PositionJointInterface</hardwareInterface>
  </joint>
  <actuator name="Body_Neck_Servo_actr">
    <hardwareInterface>PositionJointInterface</hardwareInterface>
    <mechanicalReduction>1</mechanicalReduction>
  </actuator>
</transmission>

<joint name="Neck_Head_Servo" type="continuous">
  <origin rpy="0 0 0" xyz="0.027356 -0.030018 -0.003863"/>
  <parent link="Neck1"/>
  <child link="Head_Servo1"/>
  <axis xyz="0.0 1.0 -0.0"/>
</joint>
<transmission name="Neck_Head_Servo_tran">
  <type>transmission_interface/SimpleTransmission</type>
  <joint name="Neck_Head_Servo">
    <hardwareInterface>PositionJointInterface</hardwareInterface>
  </joint>
  <actuator name="Neck_Head_Servo_actr">
    <hardwareInterface>PositionJointInterface</hardwareInterface>
    <mechanicalReduction>1</mechanicalReduction>
  </actuator>
</transmission>

<joint name="Head_Servo_Head" type="fixed">
  <origin rpy="0 0 0" xyz="-0.000216 0.012967 0.006236"/>
  <parent link="Head_Servo1"/>
  <child link="Head1"/>
</joint>

<joint name="Body_PyBoard" type="fixed">
  <origin rpy="0 0 0" xyz="-7.2e-05 0.0475 0.102498"/>
  <parent link="base_link"/>
  <child link="Electronics1"/>
</joint>

<joint name="Body_Battery" type="fixed">
  <origin rpy="0 0 0" xyz="0.0 0.0 0.0725"/>
  <parent link="base_link"/>
  <child link="Battery1"/>
</joint>

<joint name="Body_Tail_Servo" type="fixed">
  <origin rpy="0 0 0" xyz="-0.079697 0.0 0.112197"/>
  <parent link="base_link"/>
  <child link="Tail_Servo1"/>
</joint>

<joint name="Tail_Servo_Tail" type="continuous">
  <origin rpy="0 0 0" xyz="-0.014421 -1.2e-05 0.017043"/>
  <parent link="Tail_Servo1"/>
  <child link="Tail1"/>
  <axis xyz="-0.707107 0.0 0.707107"/>
</joint>
<transmission name="Tail_Servo_Tail_tran">
  <type>transmission_interface/SimpleTransmission</type>
  <joint name="Tail_Servo_Tail">
    <hardwareInterface>PositionJointInterface</hardwareInterface>
  </joint>
  <actuator name="Tail_Servo_Tail_actr">
    <hardwareInterface>PositionJointInterface</hardwareInterface>
    <mechanicalReduction>1</mechanicalReduction>
  </actuator>
</transmission>

<joint name="L_Rear_Body_Hip_Servo" type="fixed">
  <origin rpy="0 0 0" xyz="-0.074132 0.05 0.094571"/>
  <parent link="base_link"/>
  <child link="Upper_Left_Rear_Servo1"/>
</joint>

<joint name="L_Rear_Hip_Servo_Thigh" type="continuous">
  <origin rpy="0 0 0" xyz="-0.0159 0.025 -0.0119"/>
  <parent link="Upper_Left_Rear_Servo1"/>
  <child link="Upper_Left_Rear_Leg1"/>
  <axis xyz="0.0 1.0 0.0"/>
</joint>
<transmission name="L_Rear_Hip_Servo_Thigh_tran">
  <type>transmission_interface/SimpleTransmission</type>
  <joint name="L_Rear_Hip_Servo_Thigh">
    <hardwareInterface>PositionJointInterface</hardwareInterface>
  </joint>
  <actuator name="L_Rear_Hip_Servo_Thigh_actr">
    <hardwareInterface>PositionJointInterface</hardwareInterface>
    <mechanicalReduction>1</mechanicalReduction>
  </actuator>
</transmission>

<joint name="L_Rear_Thigh_Knee" type="fixed">
  <origin rpy="0 0 0" xyz="5.7e-05 0.0 -0.065394"/>
  <parent link="Upper_Left_Rear_Leg1"/>
  <child link="Left_Rear_Joint1"/>
</joint>

<joint name="L_Rear_Knee_Servo" type="continuous">
  <origin rpy="0 0 0" xyz="0.0 -0.005 0.0"/>
  <parent link="Left_Rear_Joint1"/>
  <child link="Lower_Left_Rear_Servo1"/>
  <axis xyz="0.0 1.0 0.0"/>
</joint>
<transmission name="L_Rear_Knee_Servo_tran">
  <type>transmission_interface/SimpleTransmission</type>
  <joint name="L_Rear_Knee_Servo">
    <hardwareInterface>PositionJointInterface</hardwareInterface>
  </joint>
  <actuator name="L_Rear_Knee_Servo_actr">
    <hardwareInterface>PositionJointInterface</hardwareInterface>
    <mechanicalReduction>1</mechanicalReduction>
  </actuator>
</transmission>

<joint name="L_Rear_Knee_Calf" type="fixed">
  <origin rpy="0 0 0" xyz="0.0 -0.005 0.0"/>
  <parent link="Lower_Left_Rear_Servo1"/>
  <child link="Lower_Left_Rear_Leg1"/>
</joint>

<joint name="L_Rear_Calf_Paw" type="fixed">
  <origin rpy="0 0 0" xyz="-0.069999 0.0 -0.001247"/>
  <parent link="Lower_Left_Rear_Leg1"/>
  <child link="Left_Rear_Paw1"/>
</joint>

<joint name="L_Front_Body_Hip_Servo" type="fixed">
  <origin rpy="0 0 0" xyz="0.072933 0.05 0.095716"/>
  <parent link="base_link"/>
  <child link="Upper_Left_Front_Servo1"/>
</joint>

<joint name="L_Front_Hip_Servo_Thigh" type="continuous">
  <origin rpy="0 0 0" xyz="0.017042 0.025 -0.012996"/>
  <parent link="Upper_Left_Front_Servo1"/>
  <child link="Upper_Left_Front_Leg1"/>
  <axis xyz="0.0 1.0 0.0"/>
</joint>
<transmission name="L_Front_Hip_Servo_Thigh_tran">
  <type>transmission_interface/SimpleTransmission</type>
  <joint name="L_Front_Hip_Servo_Thigh">
    <hardwareInterface>PositionJointInterface</hardwareInterface>
  </joint>
  <actuator name="L_Front_Hip_Servo_Thigh_actr">
    <hardwareInterface>PositionJointInterface</hardwareInterface>
    <mechanicalReduction>1</mechanicalReduction>
  </actuator>
</transmission>

<joint name="L_Front_Thigh_Knee" type="fixed">
  <origin rpy="0 0 0" xyz="-2.9e-05 0.0 -0.065331"/>
  <parent link="Upper_Left_Front_Leg1"/>
  <child link="Left_Front_Joint1"/>
</joint>

<joint name="L_Front_Knee_Servo" type="continuous">
  <origin rpy="0 0 0" xyz="0.0 -0.005 0.0"/>
  <parent link="Left_Front_Joint1"/>
  <child link="Lower_Left_Front_Servo1"/>
  <axis xyz="0.0 1.0 0.0"/>
</joint>
<transmission name="L_Front_Knee_Servo_tran">
  <type>transmission_interface/SimpleTransmission</type>
  <joint name="L_Front_Knee_Servo">
    <hardwareInterface>PositionJointInterface</hardwareInterface>
  </joint>
  <actuator name="L_Front_Knee_Servo_actr">
    <hardwareInterface>PositionJointInterface</hardwareInterface>
    <mechanicalReduction>1</mechanicalReduction>
  </actuator>
</transmission>

<joint name="L_Front_Knee_Calf" type="fixed">
  <origin rpy="0 0 0" xyz="0.0 -0.005 0.0"/>
  <parent link="Lower_Left_Front_Servo1"/>
  <child link="Lower_Left_Front_Leg1"/>
</joint>

<joint name="L_Front_Calf_Paw" type="fixed">
  <origin rpy="0 0 0" xyz="0.070014 0.0 -0.001272"/>
  <parent link="Lower_Left_Front_Leg1"/>
  <child link="Left_Front_Paw1"/>
</joint>

</robot>
